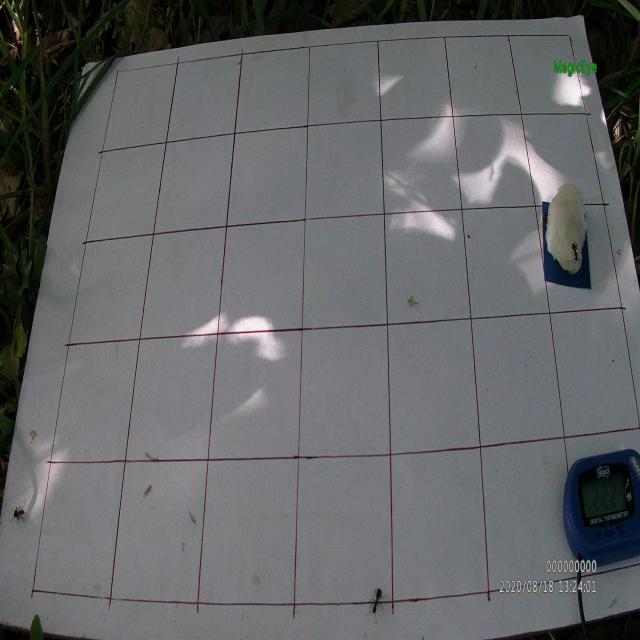Ant: (365, 588, 384, 626), (9, 498, 27, 530), (568, 236, 578, 264), (543, 208, 550, 224)
